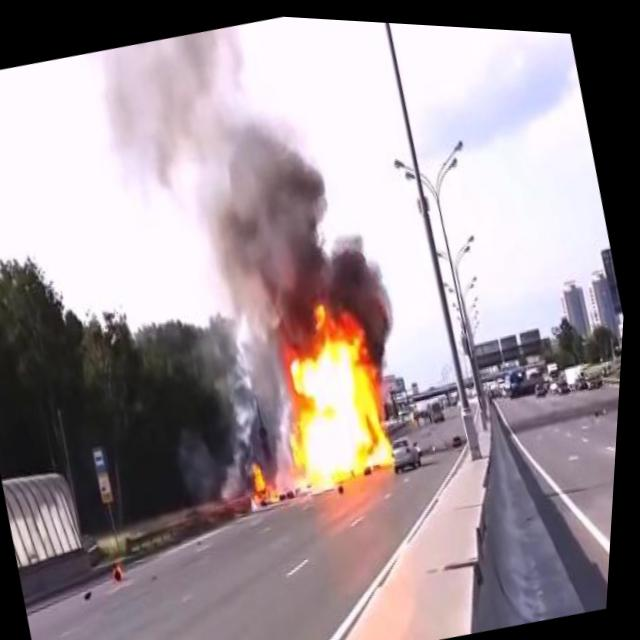fire: (259, 284, 417, 498), (246, 443, 289, 510)
